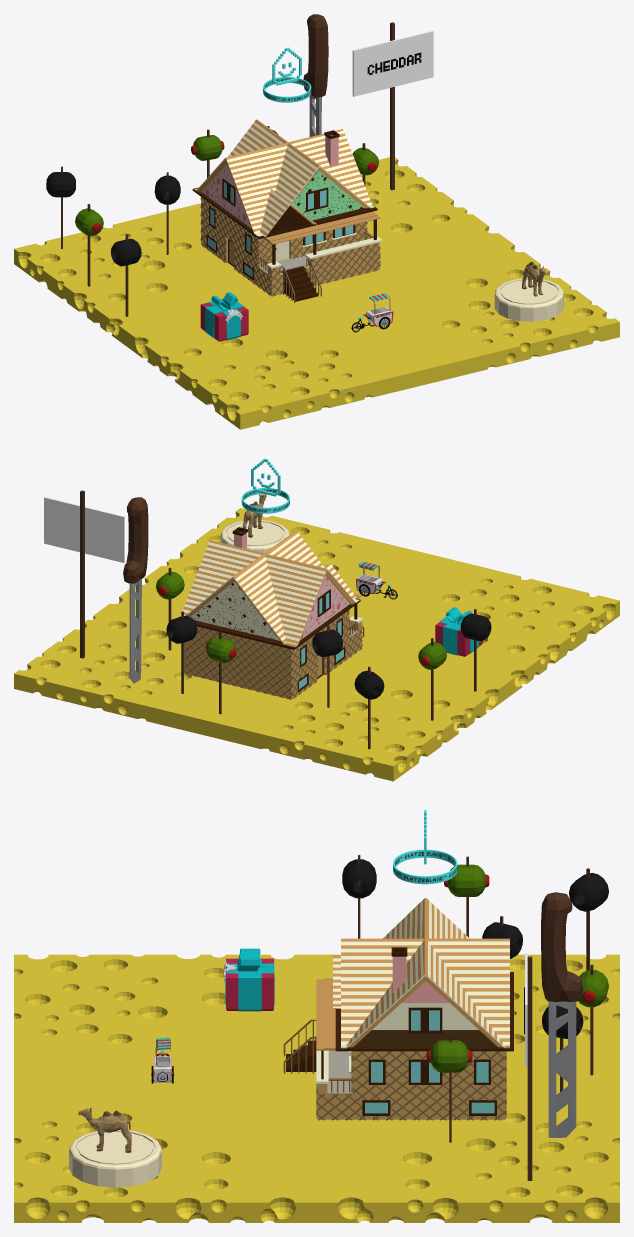
3 renders of one model, top to bottom at view 1: azimuth 30°, elevation 25°; view 2: azimuth 150°, elevation 25°; view 3: azimuth 270°, elevation 25°, orthographic. The views are drawn at different scales.
Parts seen in each view (by area): view 1: Cube.022, Cube.1102, Cube.023, Cylinder.016, Cube.024, OBJRANDOM_GIANT_PRESENT, TYPE_PREMIUM, Sphere.017, Sphere.018, Sphere.016, Sphere.020, VEHICLES_SNOWBAL_BIKE (+2 smaller); view 2: Cube.022, Cube.1102, Cube.023, Cube.024, Cylinder.016, OBJRANDOM_GIANT_PRESENT, TYPE_PREMIUM, Sphere.021, Sphere.017, Sphere.020, Sphere.022, Sphere.016 (+4 smaller); view 3: Cube.022, Cube.1102, Cube.024, Cylinder.016, OBJRANDOM_GIANT_PRESENT, Cube.023, Sphere.019, Sphere.016, TYPE_PREMIUM, Sphere.017, Sphere.018, Sphere.022 (+4 smaller).
Part boxes in pixels (<box>): Cube.022: <box>14,157,619,429</box>; Cube.1102: <box>192,119,382,302</box>; Cube.023: <box>352,22,433,190</box>; Cylinder.016: <box>494,278,563,321</box>; Cube.024: <box>303,14,328,136</box>; OBJRANDOM_GIANT_PRESENT: <box>200,292,248,341</box>; TYPE_PREMIUM: <box>263,47,311,102</box>; Sphere.017: <box>111,234,141,316</box>; Sphere.018: <box>75,204,103,286</box>; Sphere.016: <box>46,166,75,248</box>; Sphere.020: <box>154,172,180,254</box>; VEHICLES_SNOWBAL_BIKE: <box>351,293,393,332</box>; Cube.022: <box>14,508,619,781</box>; Cube.1102: <box>179,527,364,699</box>; Cube.023: <box>44,490,124,658</box>; Cube.024: <box>123,497,148,683</box>; Cylinder.016: <box>220,519,289,553</box>; OBJRANDOM_GIANT_PRESENT: <box>435,607,483,656</box>; TYPE_PREMIUM: <box>241,458,289,513</box>; Sphere.021: <box>166,611,197,693</box>; Sphere.017: <box>460,609,491,691</box>; Sphere.020: <box>312,625,342,707</box>; Sphere.022: <box>205,631,236,714</box>; Sphere.016: <box>354,666,384,749</box>; Cube.022: <box>14,954,619,1222</box>; Cube.1102: <box>283,898,513,1120</box>; Cube.024: <box>541,892,583,1137</box>; Cylinder.016: <box>69,1129,161,1187</box>; OBJRANDOM_GIANT_PRESENT: <box>223,948,274,1011</box>; Cube.023: <box>524,953,532,1180</box>; Sphere.019: <box>426,1032,472,1142</box>; Sphere.016: <box>569,868,608,970</box>; TYPE_PREMIUM: <box>393,810,457,884</box>; Sphere.017: <box>342,855,376,938</box>; Sphere.018: <box>444,856,489,937</box>; Sphere.022: <box>578,964,608,1075</box>.
Bounding box in the file's own units: 3917 × 2247 × 4000.
36 materials, 6 textured.
